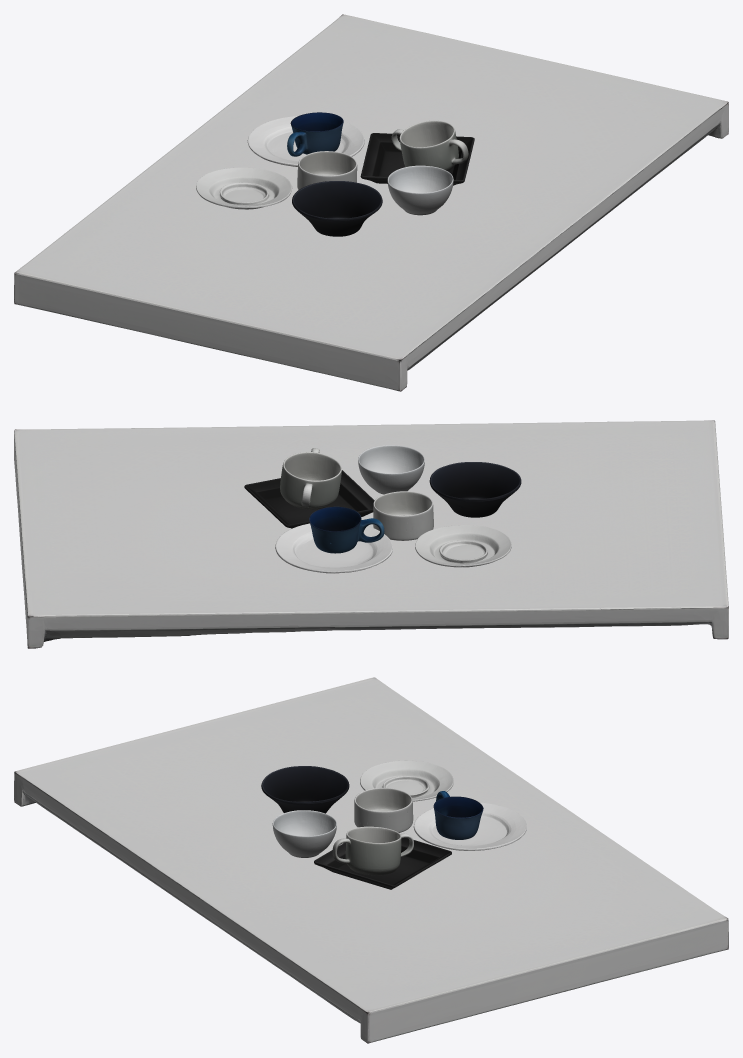
3 views of the same model, one above another, from view 1: azimuth 30°, elevation 25°; view 2: azimuth 150°, elevation 25°; view 3: azimuth 270°, elevation 25° (orthographic). The views are drawn at different scales.
Parts seen in each view (by area): view 1: node-2, node-6, node-5, node-10, node-7, node-3, node-4, node-9, node-8; view 2: node-2, node-6, node-3, node-5, node-10, node-7, node-4, node-8, node-9; view 3: node-2, node-6, node-3, node-10, node-5, node-4, node-7, node-8, node-9.
Boxes of the visible parts, left/top/right/bottom form: node-2: left=14, top=14, right=728, bottom=391; node-6: left=292, top=181, right=382, bottom=236; node-5: left=196, top=167, right=292, bottom=209; node-10: left=391, top=120, right=468, bottom=171; node-7: left=387, top=165, right=453, bottom=215; node-3: left=247, top=116, right=364, bottom=166; node-4: left=360, top=133, right=474, bottom=185; node-9: left=287, top=112, right=343, bottom=156; node-8: left=297, top=151, right=357, bottom=189; node-2: left=14, top=420, right=728, bottom=648; node-6: left=429, top=462, right=521, bottom=517; node-3: left=275, top=523, right=392, bottom=573; node-5: left=415, top=525, right=511, bottom=567; node-10: left=280, top=448, right=341, bottom=509; node-7: left=358, top=445, right=424, bottom=494; node-4: left=244, top=470, right=374, bottom=528; node-8: left=373, top=491, right=433, bottom=540; node-9: left=309, top=506, right=384, bottom=553; node-2: left=14, top=677, right=728, bottom=1043; node-6: left=261, top=766, right=349, bottom=813; node-3: left=413, top=802, right=526, bottom=850; node-10: left=332, top=826, right=413, bottom=875; node-5: left=360, top=760, right=453, bottom=801; node-4: left=314, top=838, right=451, bottom=889; node-7: left=272, top=810, right=336, bottom=857; node-8: left=354, top=787, right=413, bottom=832; node-9: left=433, top=791, right=483, bottom=839.
Size of the model in its own units: 1.77 by 0.1754 by 1.59.
9 materials, 9 textured.
